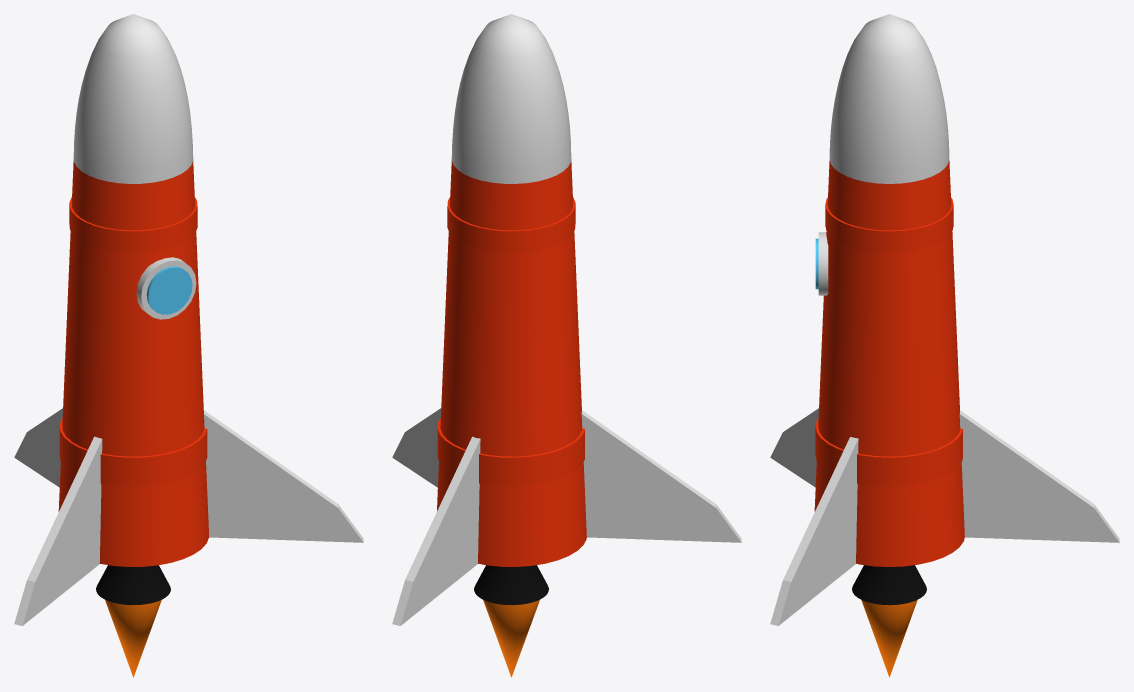
Rendered from Rocket_10_SunsetSwept.obj.
The picture shows the model from 3 angles, left to right: view 1: azimuth 30°, elevation 25°; view 2: azimuth 150°, elevation 25°; view 3: azimuth 270°, elevation 25°; orthographic projection.
Parts seen in each view (by area): view 1: R10_Body, R10_Nose, R10_Fin_3, R10_Fin_2, R10_Band_1, R10_Band_2, R10_Nozzle_1, R10_Fin_1, R10_Flame_1, R10_Window_1, R10_WindowFrame_1; view 2: R10_Body, R10_Nose, R10_Fin_2, R10_Fin_1, R10_Band_1, R10_Band_2, R10_Nozzle_1, R10_Fin_3, R10_Flame_1; view 3: R10_Body, R10_Nose, R10_Fin_1, R10_Fin_3, R10_Band_1, R10_Band_2, R10_Nozzle_1, R10_Fin_2, R10_Flame_1, R10_WindowFrame_1.
Part boxes in pixels (bbox=[...]): R10_Body: bbox=[58, 158, 208, 566]; R10_Nose: bbox=[73, 14, 193, 183]; R10_Fin_3: bbox=[204, 410, 363, 542]; R10_Fin_2: bbox=[14, 436, 102, 625]; R10_Band_1: bbox=[59, 418, 207, 486]; R10_Band_2: bbox=[69, 197, 197, 252]; R10_Nozzle_1: bbox=[96, 565, 170, 605]; R10_Fin_1: bbox=[14, 408, 62, 487]; R10_Flame_1: bbox=[105, 599, 161, 677]; R10_Window_1: bbox=[146, 266, 192, 314]; R10_WindowFrame_1: bbox=[136, 257, 196, 319]; R10_Body: bbox=[437, 158, 586, 566]; R10_Nose: bbox=[451, 14, 571, 183]; R10_Fin_2: bbox=[581, 410, 741, 542]; R10_Fin_1: bbox=[392, 436, 480, 625]; R10_Band_1: bbox=[437, 417, 584, 486]; R10_Band_2: bbox=[447, 197, 575, 252]; R10_Nozzle_1: bbox=[474, 565, 548, 605]; R10_Fin_3: bbox=[392, 408, 441, 487]; R10_Flame_1: bbox=[483, 599, 539, 677]; R10_Body: bbox=[814, 160, 964, 566]; R10_Nose: bbox=[829, 14, 949, 183]; R10_Fin_1: bbox=[959, 410, 1119, 542]; R10_Fin_3: bbox=[770, 437, 858, 625]; R10_Band_1: bbox=[815, 418, 962, 486]; R10_Band_2: bbox=[825, 197, 953, 252]; R10_Nozzle_1: bbox=[852, 565, 926, 605]; R10_Fin_2: bbox=[770, 408, 818, 487]; R10_Flame_1: bbox=[861, 600, 917, 677]; R10_WindowFrame_1: bbox=[818, 232, 828, 295].
Size of the model in its own units: 5.06 by 9.17 by 4.38.
